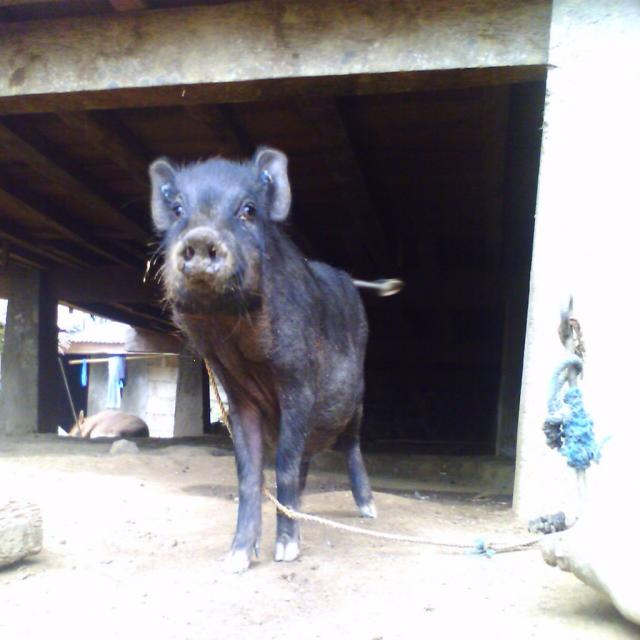Pig: (146, 142, 408, 567)
